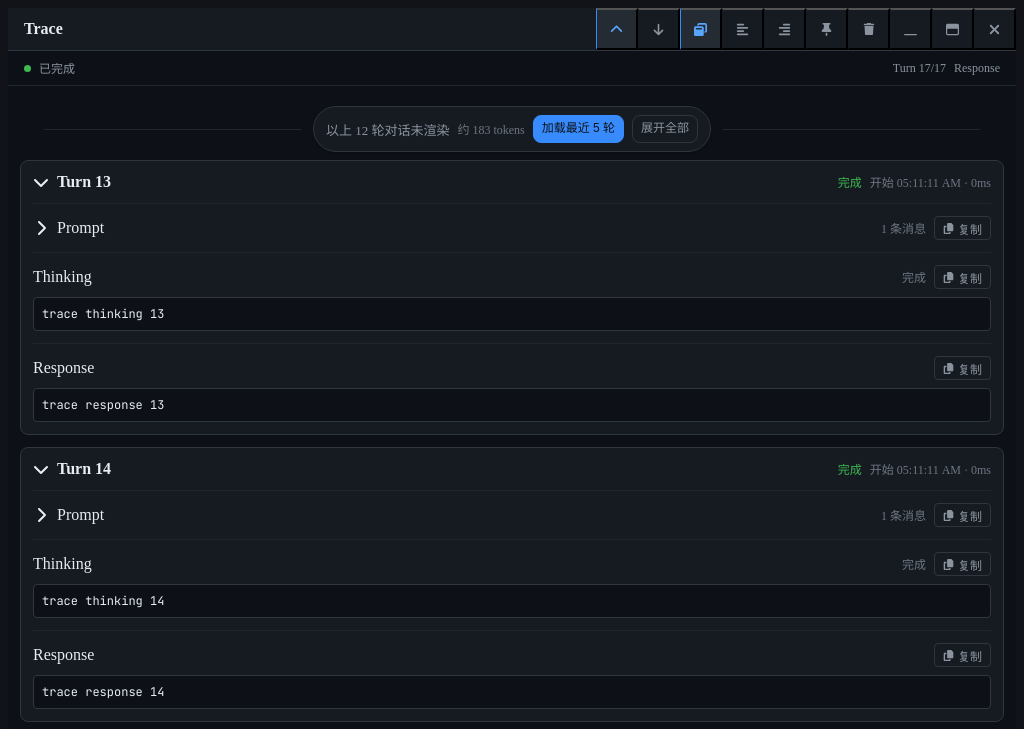
TracePanel folding › matches chat folding behavior for long traces
The width and height of the screenshot is (1024, 729).
Click the button "加载最近 5 轮". click: x=578, y=129
box: [533,115,624,143]
(page scrolled)
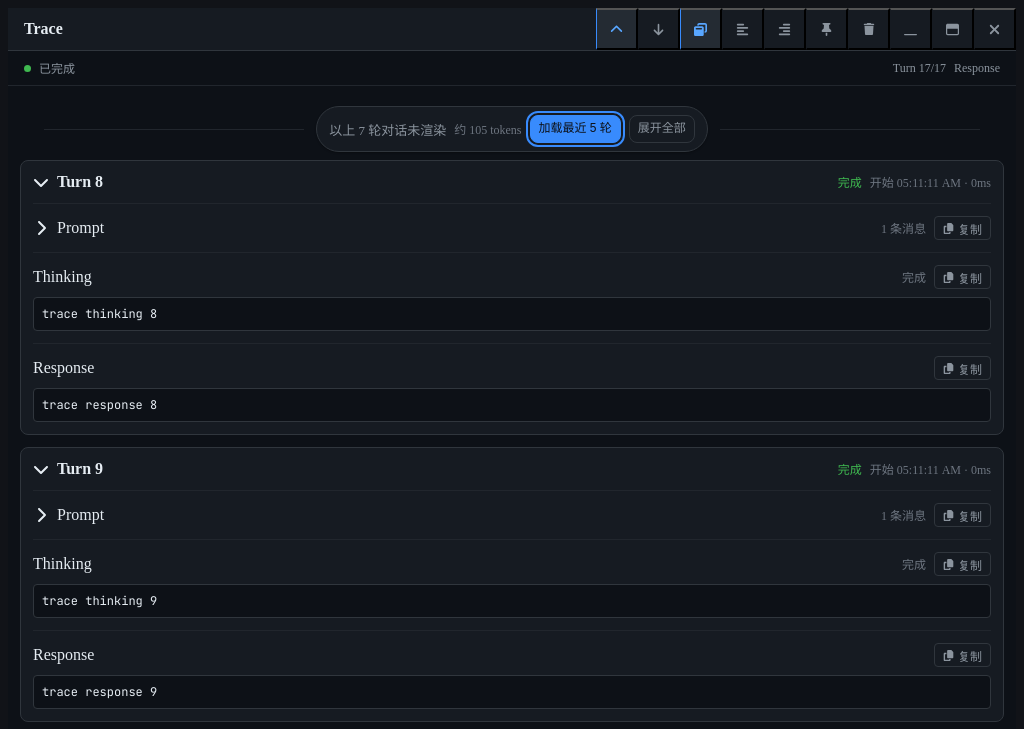
Click the button "展开全部". click: x=662, y=129
box: [629,115,695,143]
(page scrolled)
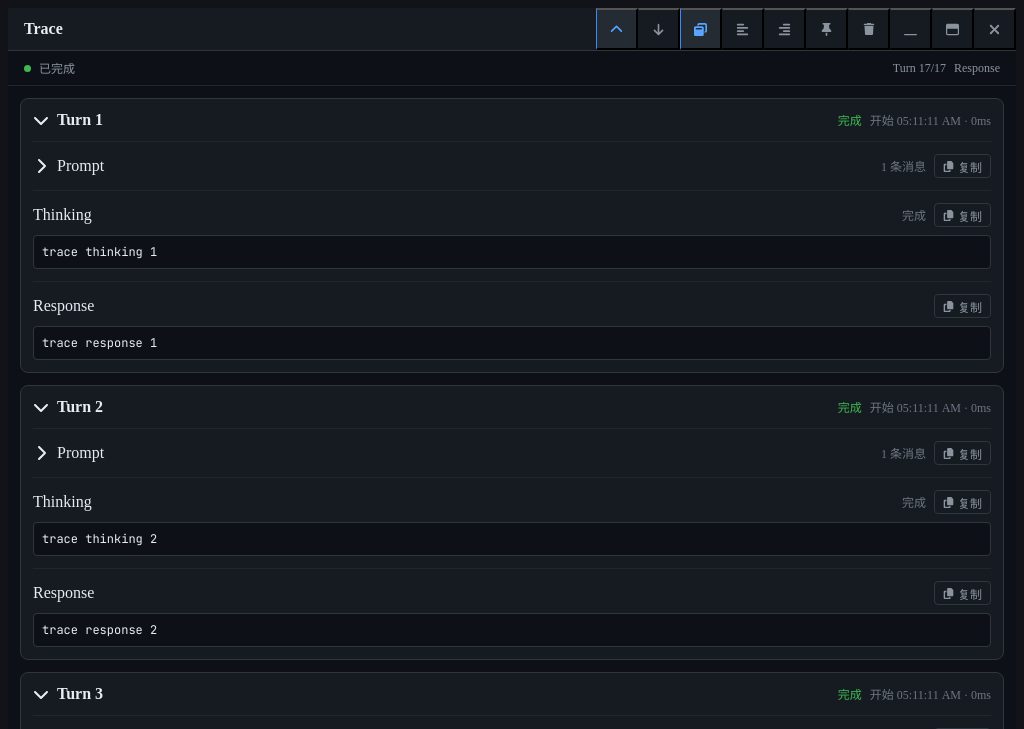
Now the button "展开全部" is gone
